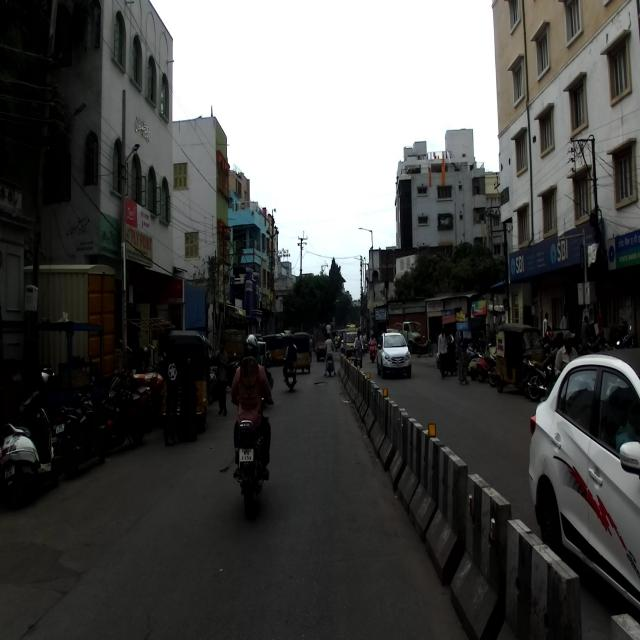Car: (528, 346, 640, 612)
autorickshaw: (158, 331, 212, 433), (496, 322, 546, 396)
motorcycle_Hero: (230, 392, 272, 524)
motorcycle_Honda: (53, 374, 105, 476)
motorcycle_bajaj: (103, 363, 151, 449)
scooter: (0, 378, 53, 510)
